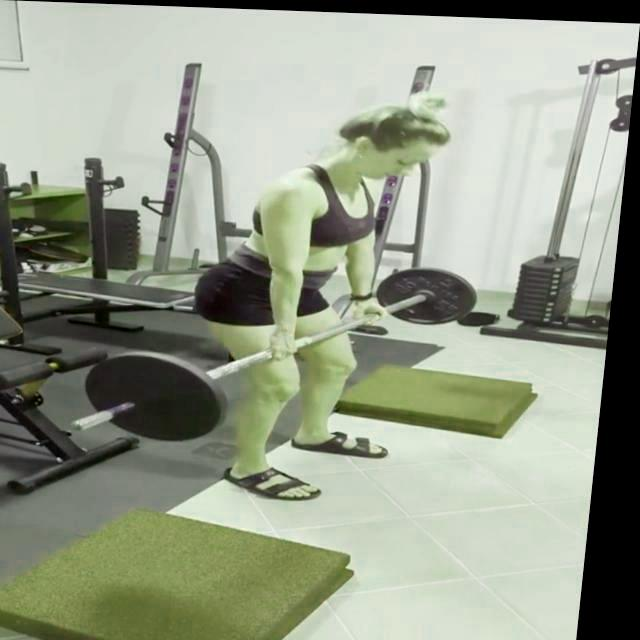barbell: (71, 342, 243, 445)
